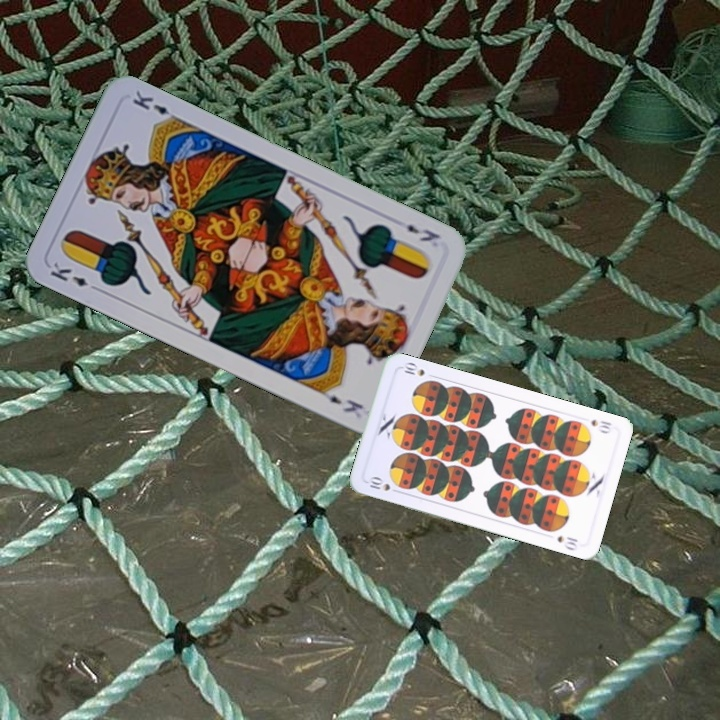EK: (46, 258, 103, 295), (402, 220, 443, 244)
S10: (365, 473, 403, 496), (587, 415, 614, 436)
